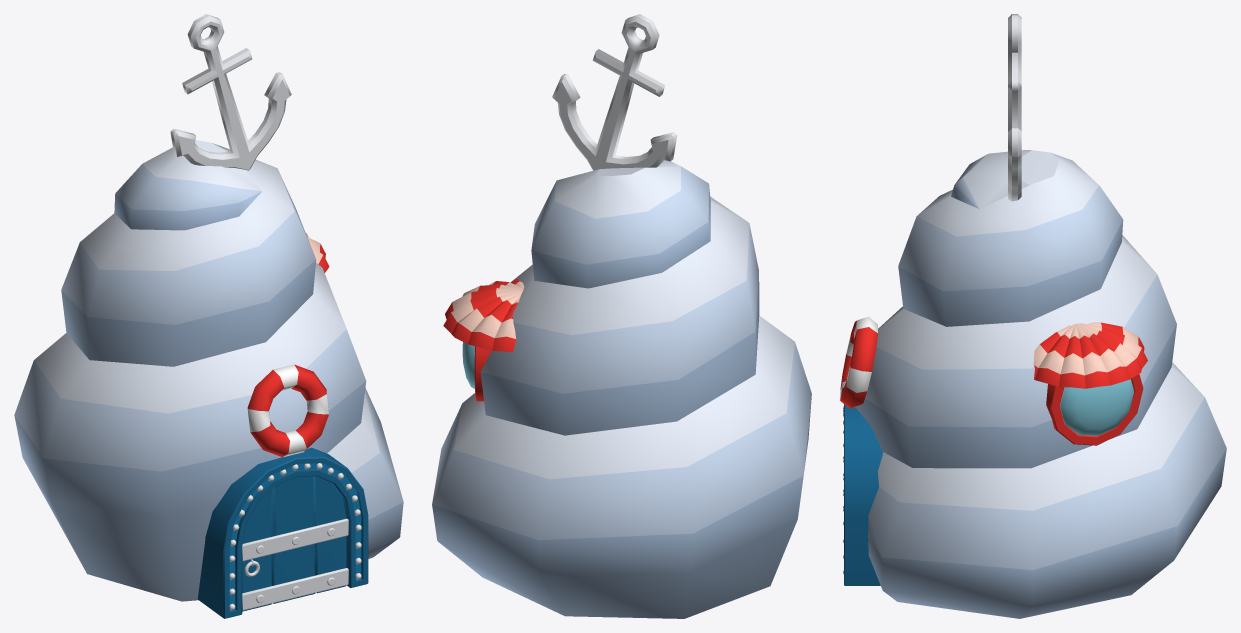
Rendered from House_9.fbx.
3 renders of one model, left to right at view 1: azimuth 30°, elevation 25°; view 2: azimuth 150°, elevation 25°; view 3: azimuth 270°, elevation 25°, orthographic. The views are drawn at different scales.
Visible parts, largest first — view 1: House_9; view 2: House_9; view 3: House_9.
Boxes of the visible parts, <box> form: House_9: <box>14,14,403,618</box>; House_9: <box>432,14,811,618</box>; House_9: <box>840,14,1226,618</box>.
Bounding box in the file's own units: 1.62 × 2.36 × 1.56.
